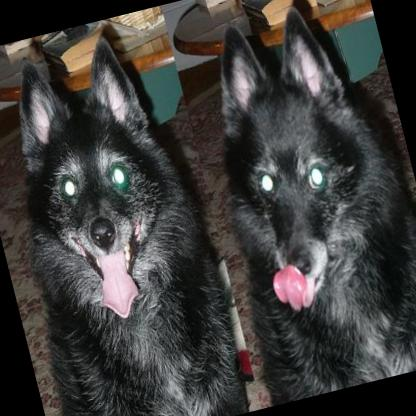schipperke: (0, 19, 258, 416), (184, 0, 416, 402)
